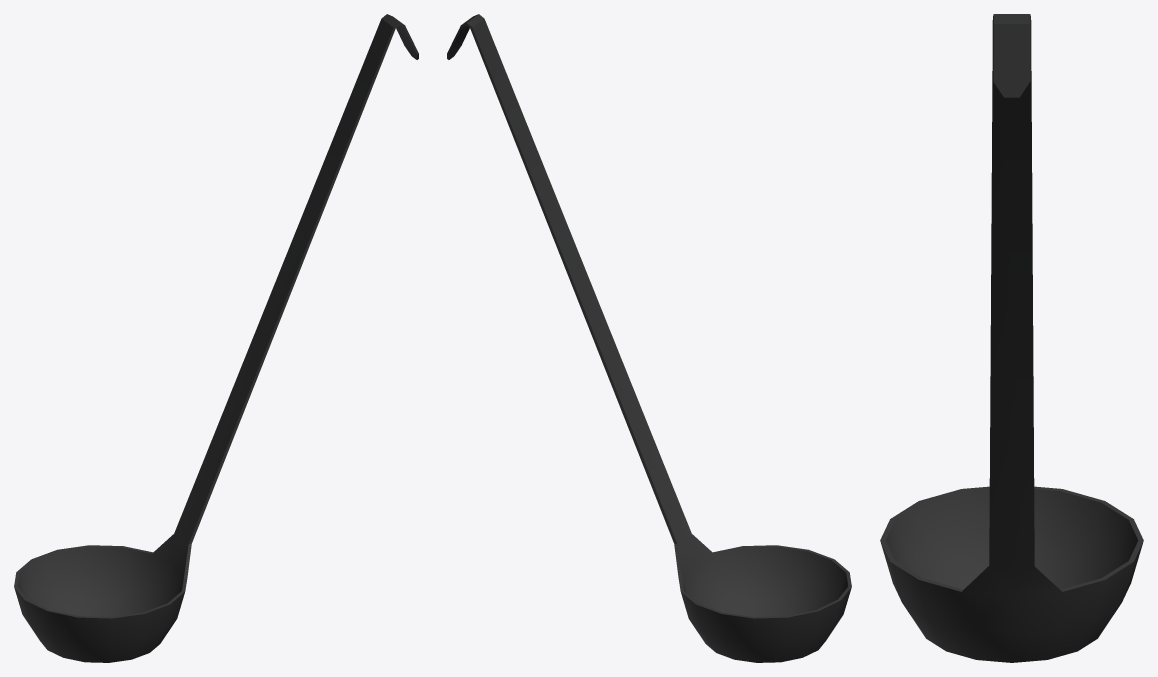
Rendered from Ladel.fbx.
The picture shows the model from 3 angles, left to right: view 1: azimuth 30°, elevation 25°; view 2: azimuth 150°, elevation 25°; view 3: azimuth 270°, elevation 25°; orthographic projection. The views are drawn at different scales.
Parts seen in each view (by area): view 1: Ladel; view 2: Ladel; view 3: Ladel.
Part boxes in pixels (x1,y1,x2,y2): Ladel: (14,14,418,662); Ladel: (447,14,851,662); Ladel: (880,14,1143,662).
Size of the model in its own units: 25.9 by 35.55 by 10.03.
